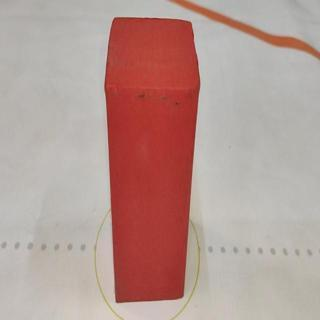redbox: (107, 15, 190, 303)
